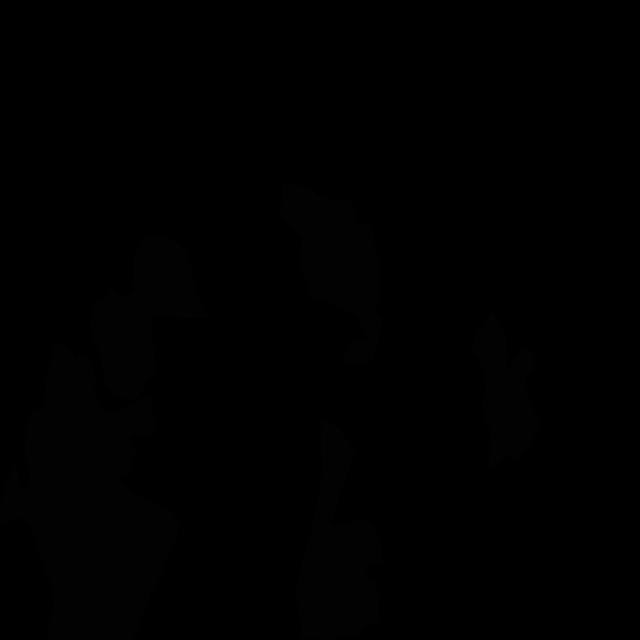cardboard: (0, 341, 178, 640), (296, 420, 383, 640), (280, 184, 381, 364), (116, 237, 211, 402), (472, 310, 538, 470), (90, 287, 136, 395)
